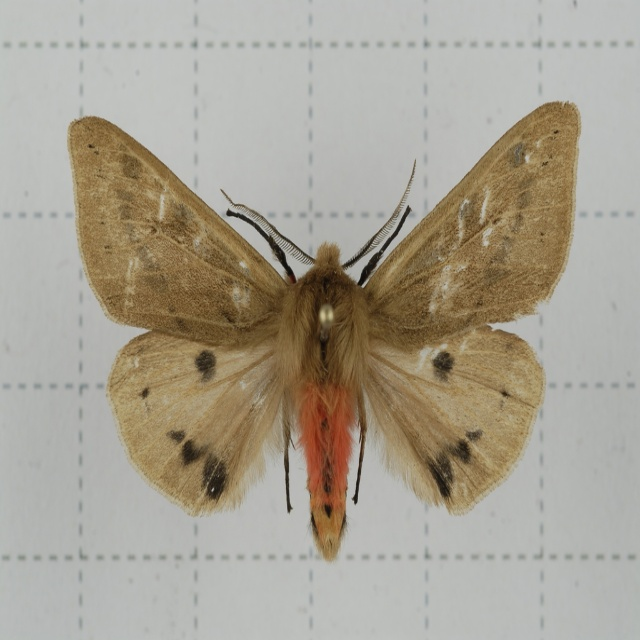Moths and butterflies: (65, 97, 584, 561)
